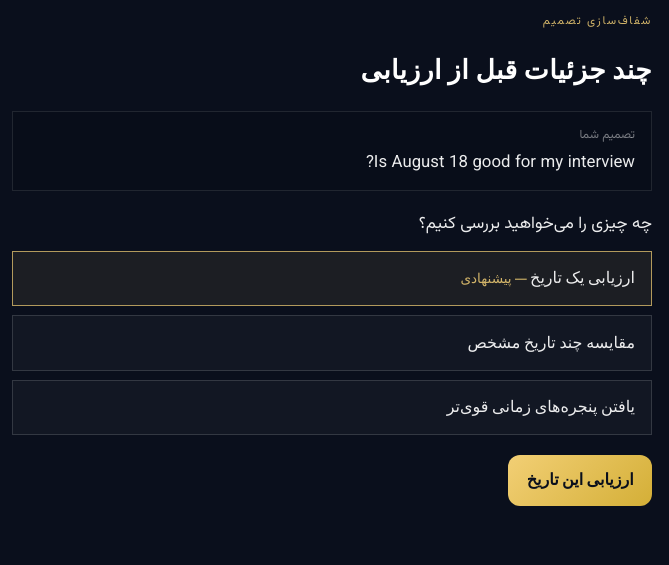
AskClarificationFlow capability gating › drift B: web offered evaluate but backend rejects → FA shows localized capability error
Click the button with test id "ask-persist-evaluate" at (580, 480), box [508, 455, 652, 506]
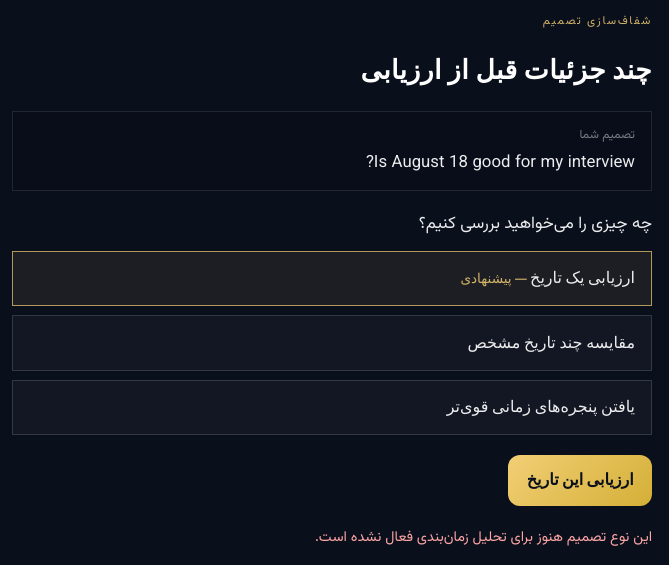
expect the text "این نوع تصمیم هنوز برای تحلیل زمان‌بندی فعال نشده است." is shown: met, box [315, 526, 652, 548]
